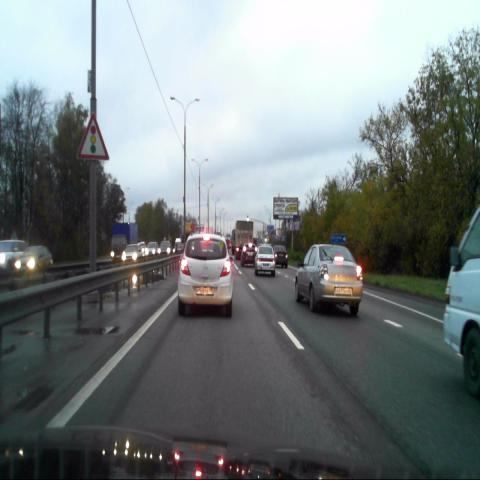1_8: (78, 112, 110, 161)
